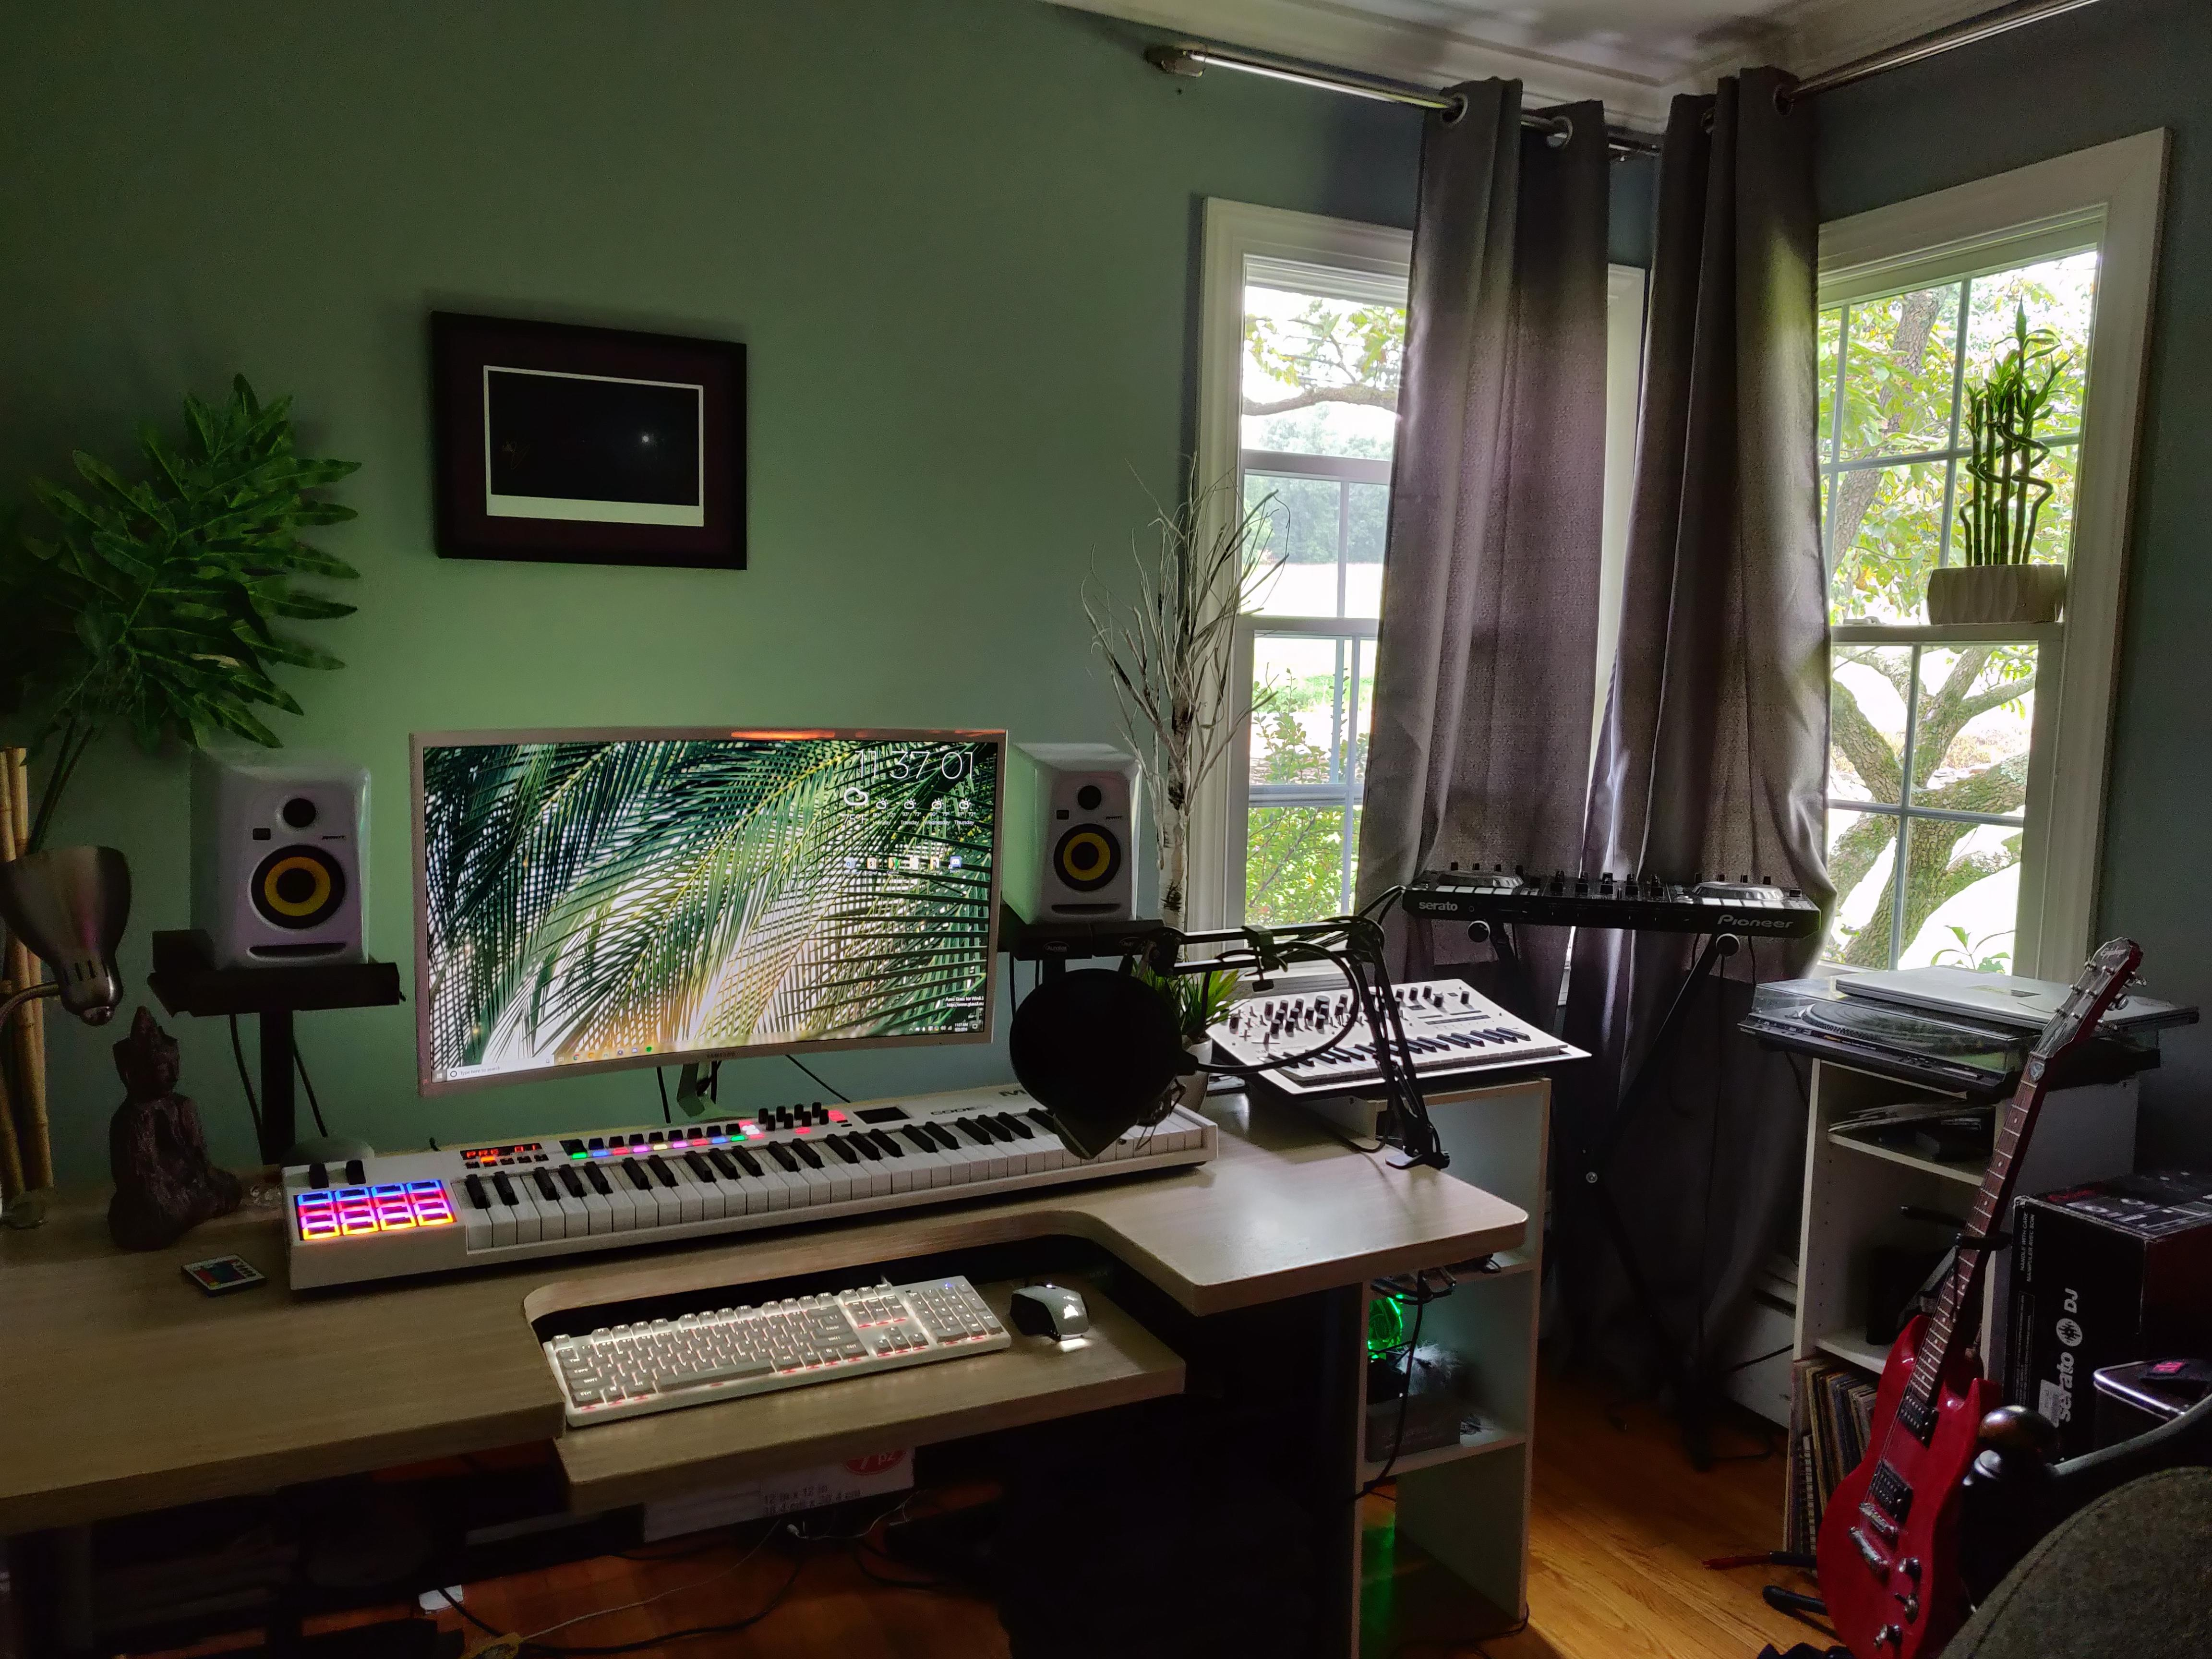Decoration (Generic): (397, 303, 787, 572)
Decoration (Miniature): (68, 1000, 273, 1248)
Decoration (Plant): (0, 357, 394, 850), (1057, 420, 1268, 1058), (1900, 315, 2118, 619)
Desk (Generic): (0, 1138, 1606, 1647)
External Microphone (with Boom Arm): (996, 880, 1449, 1194)
External Speakers (Subwoofers): (167, 739, 395, 978), (1005, 727, 1158, 925)
Keyboard (Gaming): (505, 1251, 1001, 1431)
Lamp (Desk): (0, 810, 146, 1267)
Monitor (Landscape): (399, 713, 1014, 1115)
Mouse (Gaming): (1008, 1253, 1097, 1352)
Musical Instrument (Electric Guitar): (1808, 894, 2144, 1631)
Musical Instrument (Keyboard/Piano): (246, 1058, 1245, 1298), (1190, 950, 1601, 1122), (1350, 850, 1874, 941)
